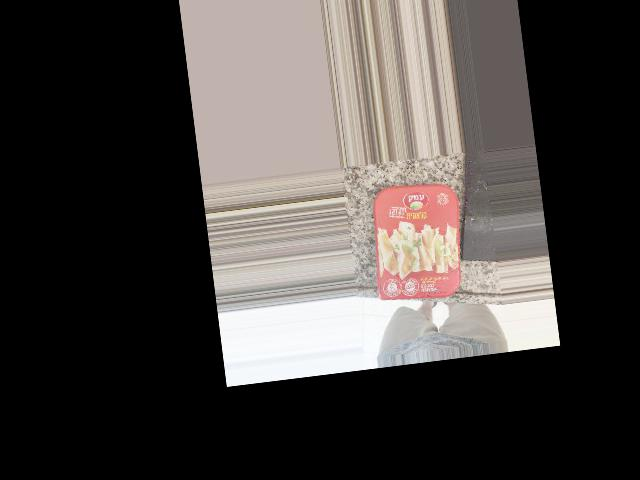cheese: (378, 201, 473, 323)
